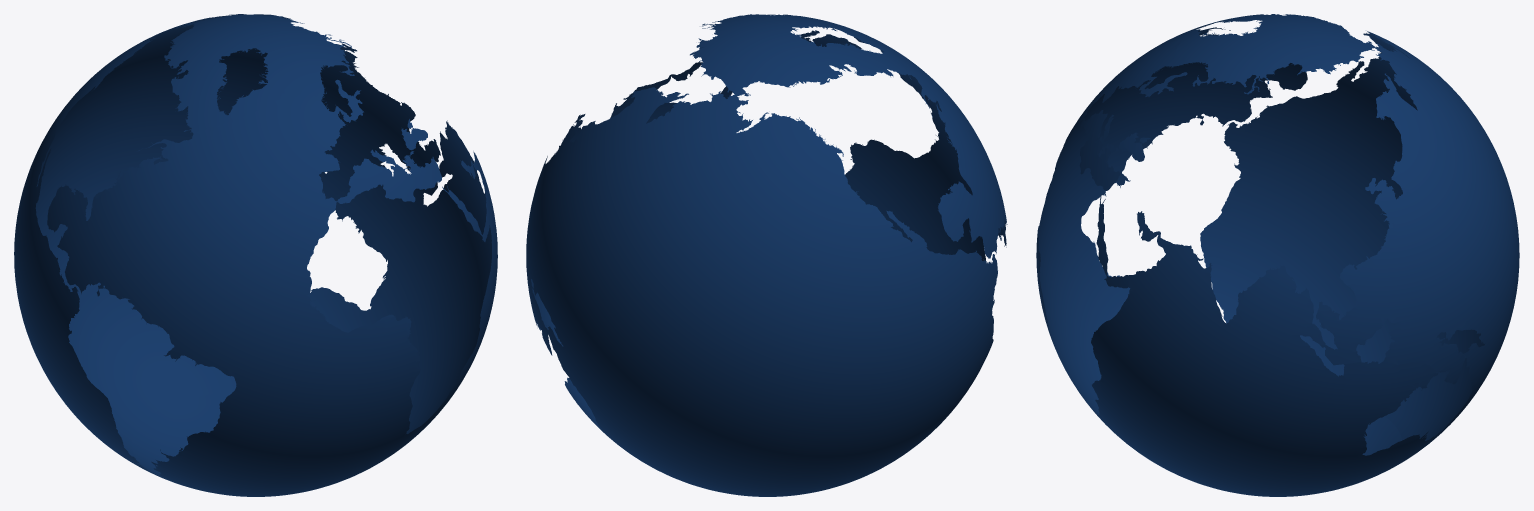
The model's file is oceans.FBX.
The picture shows the model from 3 angles, left to right: view 1: azimuth 30°, elevation 25°; view 2: azimuth 150°, elevation 25°; view 3: azimuth 270°, elevation 25°; orthographic projection.
Parts seen in each view (by area): view 1: ocean_Atlantic, ocean_Pacific, ocean_Indian, ocean_Arctic, ocean_Southern; view 2: ocean_Pacific, ocean_Atlantic, ocean_Arctic, ocean_Indian; view 3: ocean_Pacific, ocean_Indian, ocean_Atlantic, ocean_Arctic, ocean_Southern.
Boxes of the visible parts, x1=… form: ocean_Atlantic: x1=47, y1=79, x2=441, y2=495; ocean_Pacific: x1=14, y1=14, x2=440, y2=483; ocean_Indian: x1=307, y1=120, x2=497, y2=462; ocean_Arctic: x1=164, y1=14, x2=354, y2=142; ocean_Southern: x1=131, y1=391, x2=320, y2=496; ocean_Pacific: x1=526, y1=87, x2=997, y2=495; ocean_Atlantic: x1=767, y1=14, x2=1007, y2=260; ocean_Arctic: x1=690, y1=14, x2=911, y2=96; ocean_Indian: x1=528, y1=61, x2=732, y2=432; ocean_Pacific: x1=1200, y1=31, x2=1519, y2=453; ocean_Indian: x1=1091, y1=194, x2=1437, y2=495; ocean_Atlantic: x1=1036, y1=27, x2=1307, y2=415; ocean_Arctic: x1=1177, y1=14, x2=1375, y2=94; ocean_Southern: x1=1213, y1=416, x2=1401, y2=496.
Bounding box in the file's own units: 39.4 × 39.4 × 39.23.
